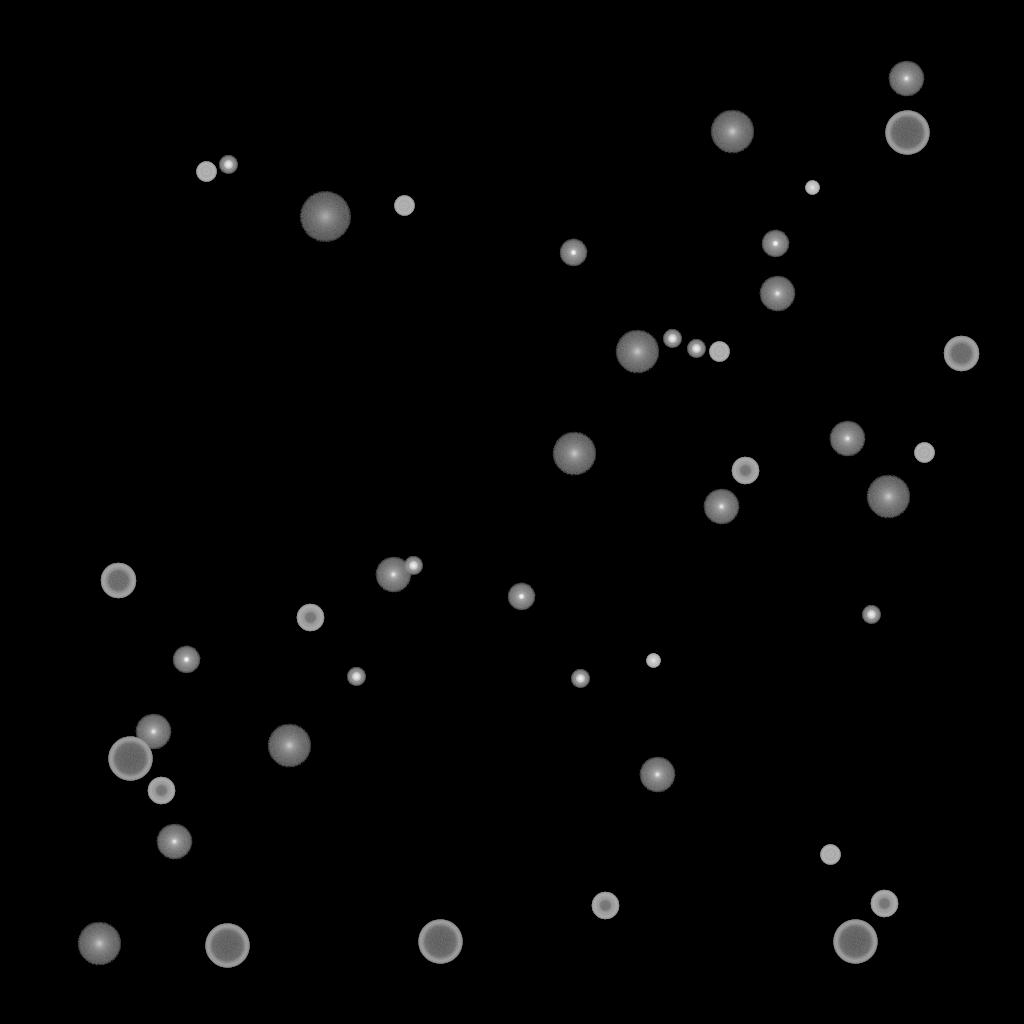depth:-10: (507, 583, 535, 611), (559, 239, 587, 267), (761, 230, 789, 258), (172, 646, 200, 674)
depth:-20: (663, 330, 681, 348), (404, 557, 422, 575), (862, 606, 880, 624), (219, 156, 237, 174), (347, 668, 365, 686), (571, 670, 589, 688), (687, 340, 705, 358)
depth:-30: (805, 181, 819, 195), (646, 654, 660, 668)
depth:-40: (394, 196, 414, 216), (196, 162, 216, 182), (709, 342, 729, 362), (914, 443, 934, 463), (820, 845, 840, 865)
depth:-50: (731, 457, 759, 485), (591, 892, 619, 920), (147, 777, 175, 805), (296, 604, 324, 632), (870, 890, 898, 918)
depth:-60: (100, 563, 136, 599), (943, 336, 979, 372)
depth:-70: (885, 111, 929, 155), (833, 920, 877, 964), (418, 920, 462, 964), (205, 924, 249, 968), (108, 737, 152, 781)
depth:0: (829, 421, 865, 457), (156, 824, 192, 860), (759, 276, 795, 312), (135, 714, 171, 750), (375, 557, 411, 593), (703, 489, 739, 525), (888, 61, 924, 97), (639, 757, 675, 793)
depth:10: (552, 432, 596, 476), (77, 922, 121, 966), (267, 724, 311, 768), (866, 475, 910, 519), (615, 330, 659, 374), (710, 110, 754, 154)
depth:20: (299, 192, 351, 242)
